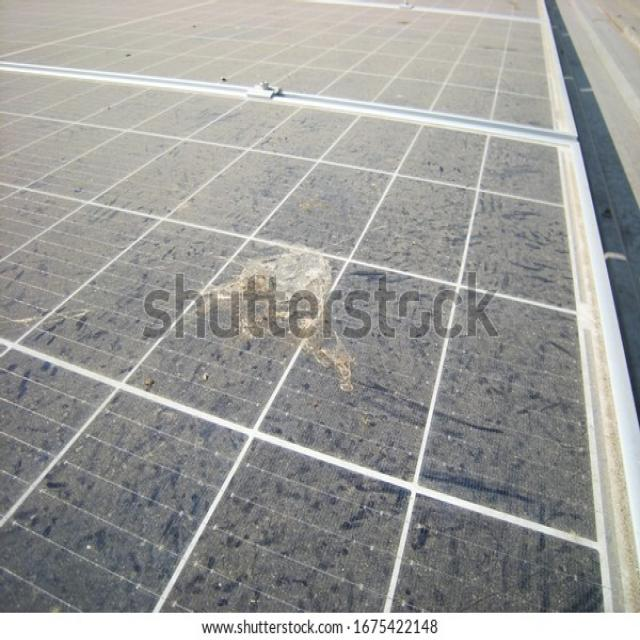dust-solar-panel: (0, 0, 616, 616)
